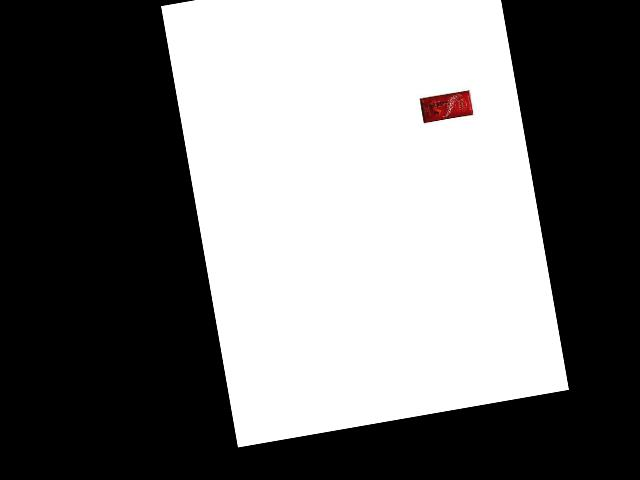chocolate: (415, 88, 474, 124)
